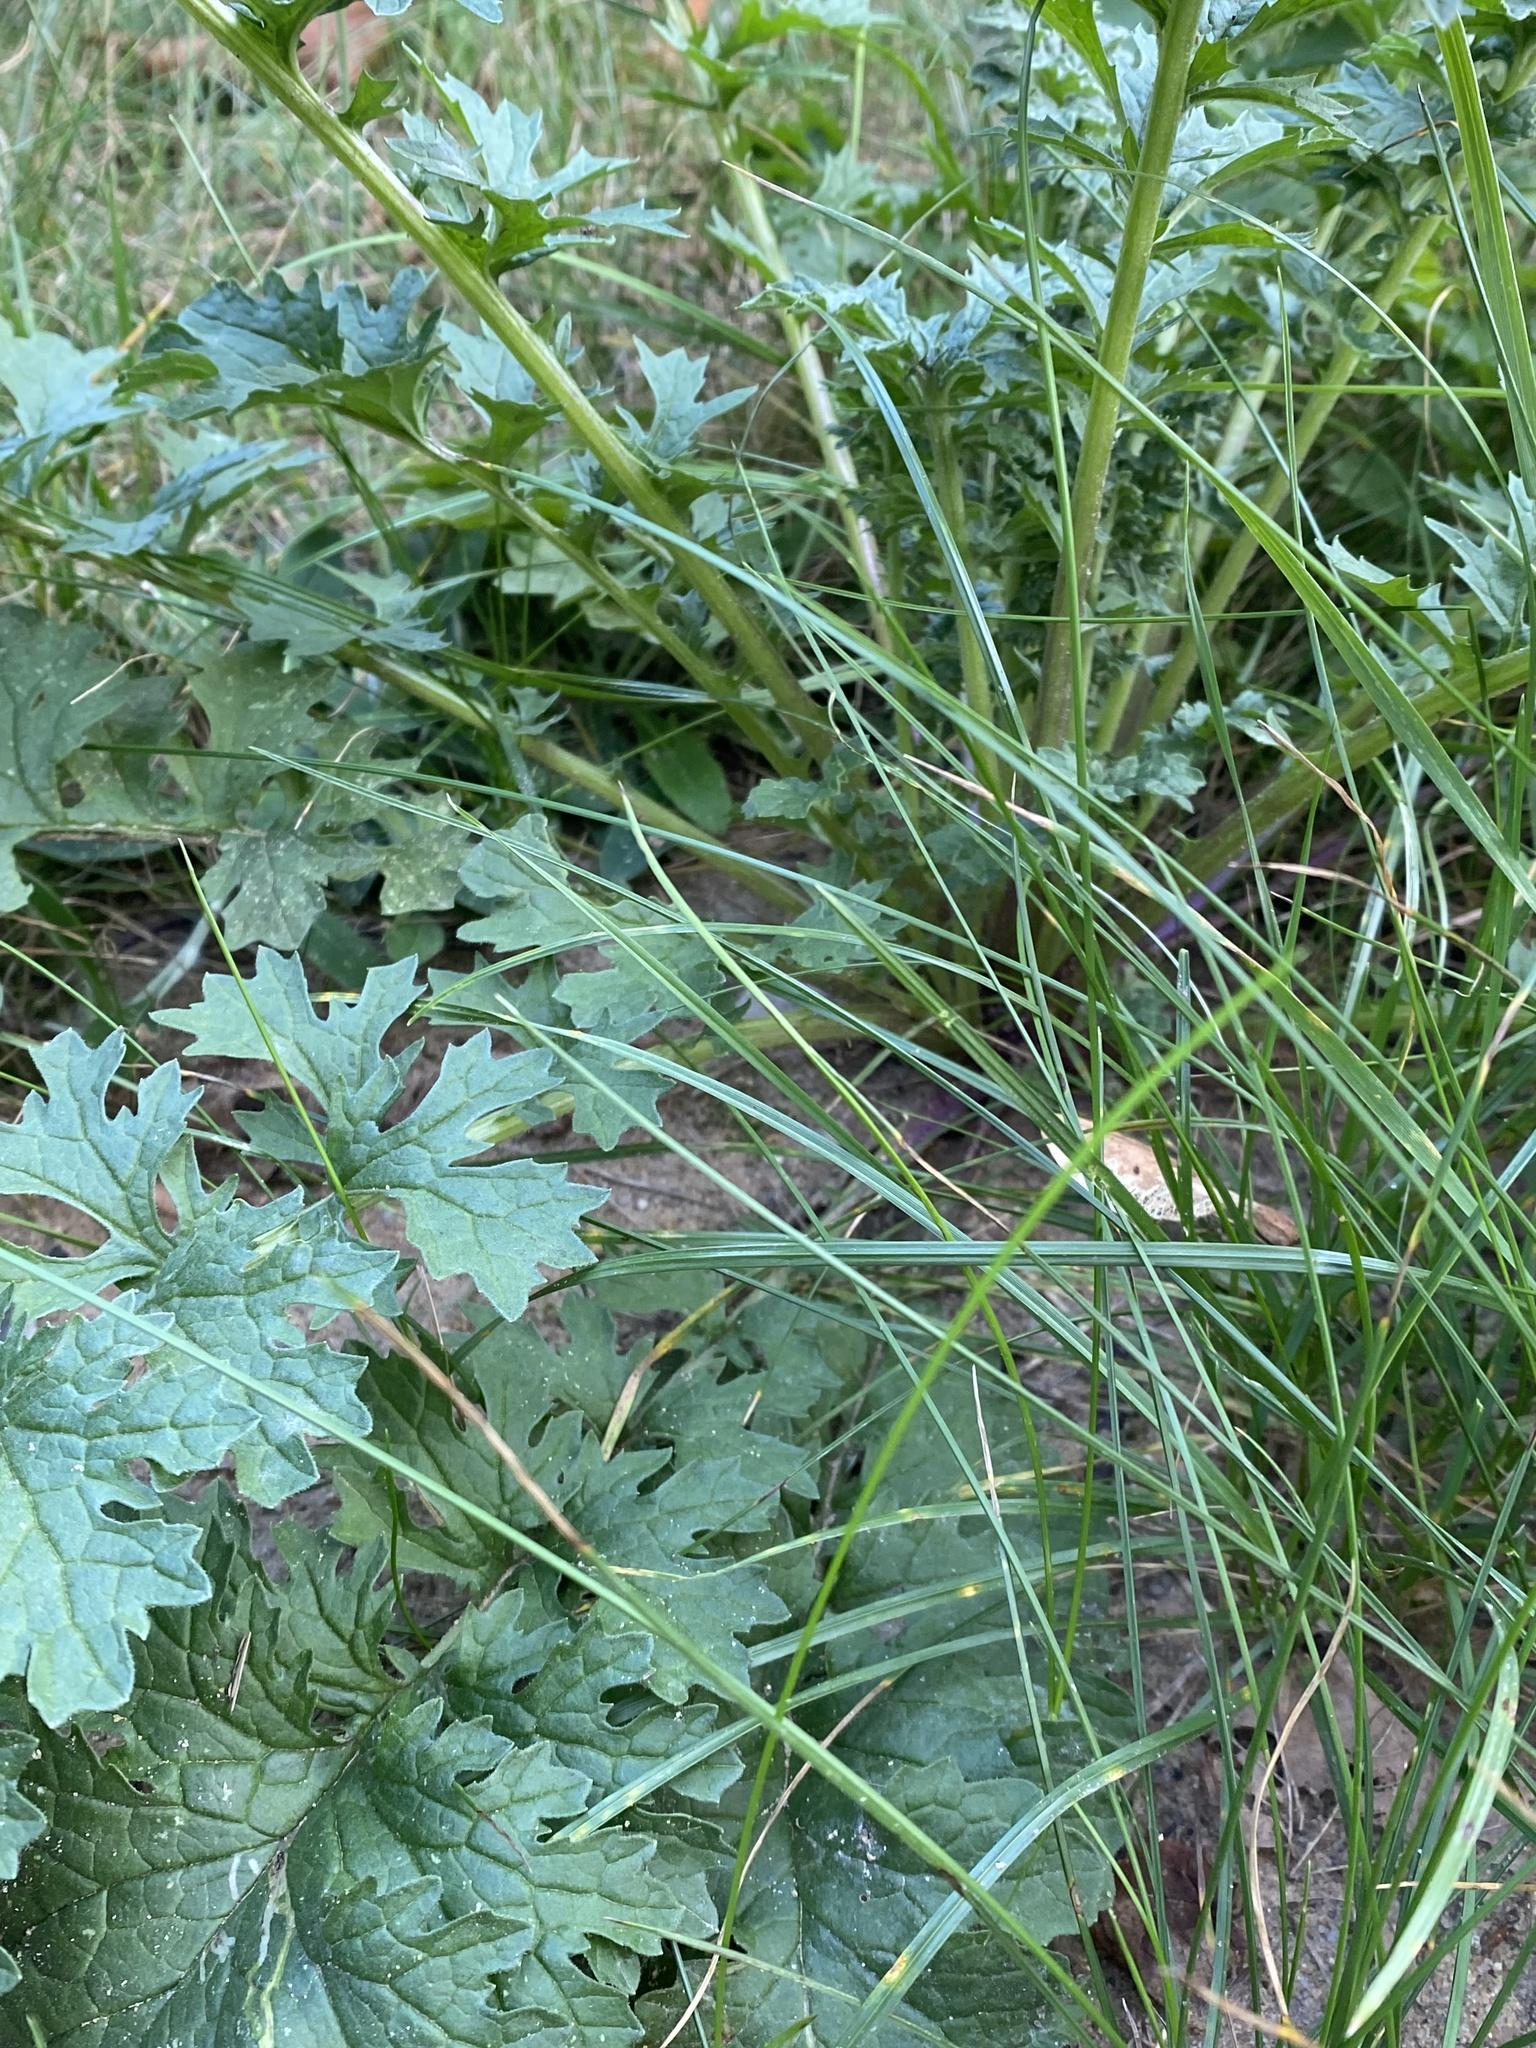Jacobaea vulgaris: (19, 0, 1513, 1700)
